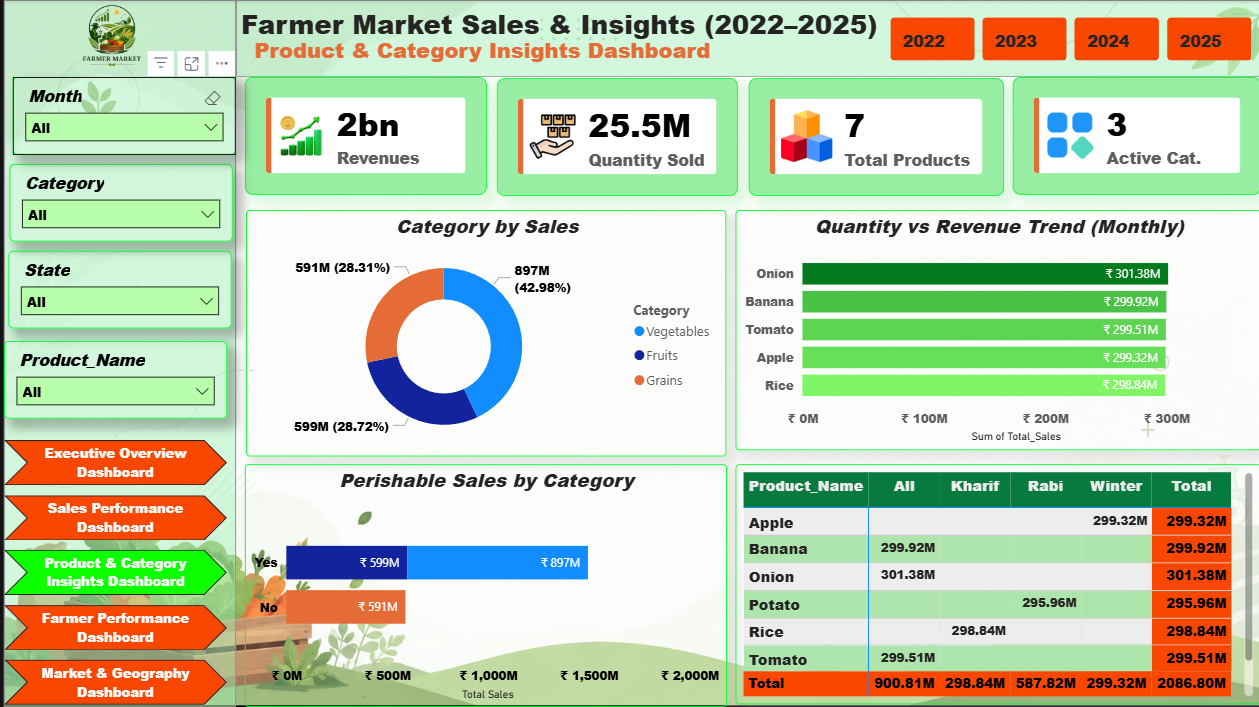

Layout of this report page (visuals, bound fields, positions):
{"tool":"powerbi","page":{"name":"Product & Category Insights Dashboard","canvas":[1280,720],"ordinal":2},"visuals":[{"type":"shape","box":[0,0,236.3,720.2],"z":0},{"type":"shape","box":[236.3,0,1044,78.4],"z":1000},{"type":"textbox","box":[236.3,0,660.9,59.4],"z":2000},{"type":"textbox","box":[249.8,30.2,505.2,48.2],"z":3000},{"type":"image","box":[57.1,0,105.3,78.4],"z":4000},{"type":"cardVisual","fields":{"Data":["Sum(farmmarket_Dataset.Quantity_Sold)"]},"box":[501.8,79.5,245.3,119.9],"z":5000},{"type":"cardVisual","fields":{"Data":["Count(farmmarket_Dataset.Product_ID)"]},"box":[758.3,79.5,259.9,119.9],"z":6000},{"type":"cardVisual","fields":{"Data":["Count(farmmarket_Dataset.Category)"]},"box":[1027.2,78.4,253.2,119.9],"z":7000},{"type":"cardVisual","fields":{"Data":["Sum(farmmarket_Dataset.Total_Sales)"]},"box":[245.3,78.4,246.4,119.9],"z":8000},{"type":"slicer","fields":{"Values":["farmmarket_Dataset.Category"]},"box":[5.6,166.9,227.4,79.5],"z":9000},{"type":"slicer","fields":{"Values":["farmmarket_Dataset.Date.Variation.Date Hierarchy.Month"]},"box":[9,78.4,227.4,79.5],"z":10000},{"type":"slicer","fields":{"Values":["farmmarket_Dataset.State"]},"box":[4.5,255.4,227.4,79.5],"z":11000},{"type":"pivotTable","title":"Monthly Sales","fields":{"Values":["Sum(farmmarket_Dataset.Total_Sales)"],"Columns":["farmmarket_Dataset.Season"],"Rows":["farmmarket_Dataset.Product_Name"]},"box":[744.9,472.7,535.4,244.2],"z":12000},{"type":"donutChart","title":"Category by Sales","fields":{"Y":["Sum(farmmarket_Dataset.Total_Sales)"],"Category":["farmmarket_Dataset.Category"]},"box":[246.4,213.9,489.5,250.9],"z":13000},{"type":"barChart","title":"Perishable Sales by Category","fields":{"Y":["farmmarket_Dataset.Total Sales"],"Category":["farmmarket_Dataset.Perishable"],"Series":["farmmarket_Dataset.Category"]},"box":[245.3,472.7,490.6,247.5],"z":14000},{"type":"barChart","title":"Quantity vs Revenue Trend (Monthly)","fields":{"Y":["Sum(farmmarket_Dataset.Total_Sales)"],"Category":["farmmarket_Dataset.Product_Name"]},"box":[744.9,213.9,535.4,244.2],"z":15000},{"type":"advancedSlicerVisual","fields":{"Values":["farmmarket_Dataset.Date.Variation.Date Hierarchy.Year"]},"box":[897.2,12.3,379.7,54.9],"z":16000},{"type":"pageNavigator","box":[0,447.8,227.4,272.2],"z":17000},{"type":"slicer","fields":{"Values":["farmmarket_Dataset.Product_Name"]},"box":[0,347.2,227.4,79.5],"z":18000}]}

Visuals, with their boxes in screenshot pixels (x1, y1, x2, y2), scaled from the page's 1280x720 canvas onto the 1259x707 screenshot:
shape: Rect(0, 0, 232, 706)
shape: Rect(232, 0, 1258, 77)
textbox: Rect(232, 0, 882, 58)
textbox: Rect(246, 30, 743, 77)
image: Rect(56, 0, 160, 77)
cardVisual - Sum(farmmarket_Dataset.Quantity_Sold): Rect(494, 78, 735, 196)
cardVisual - Count(farmmarket_Dataset.Product_ID): Rect(746, 78, 1001, 196)
cardVisual - Count(farmmarket_Dataset.Category): Rect(1010, 77, 1258, 195)
cardVisual - Sum(farmmarket_Dataset.Total_Sales): Rect(241, 77, 484, 195)
slicer - farmmarket_Dataset.Category: Rect(6, 164, 229, 242)
slicer - farmmarket_Dataset.Date.Variation.Date Hierarchy.Month: Rect(9, 77, 233, 155)
slicer - farmmarket_Dataset.State: Rect(4, 251, 228, 329)
"Monthly Sales" pivotTable: Rect(733, 464, 1258, 704)
"Category by Sales" donutChart: Rect(242, 210, 724, 456)
"Perishable Sales by Category" barChart: Rect(241, 464, 724, 706)
"Quantity vs Revenue Trend (Monthly)" barChart: Rect(733, 210, 1258, 450)
advancedSlicerVisual - farmmarket_Dataset.Date.Variation.Date Hierarchy.Year: Rect(882, 12, 1256, 66)
pageNavigator: Rect(0, 440, 224, 706)
slicer - farmmarket_Dataset.Product_Name: Rect(0, 341, 224, 419)
